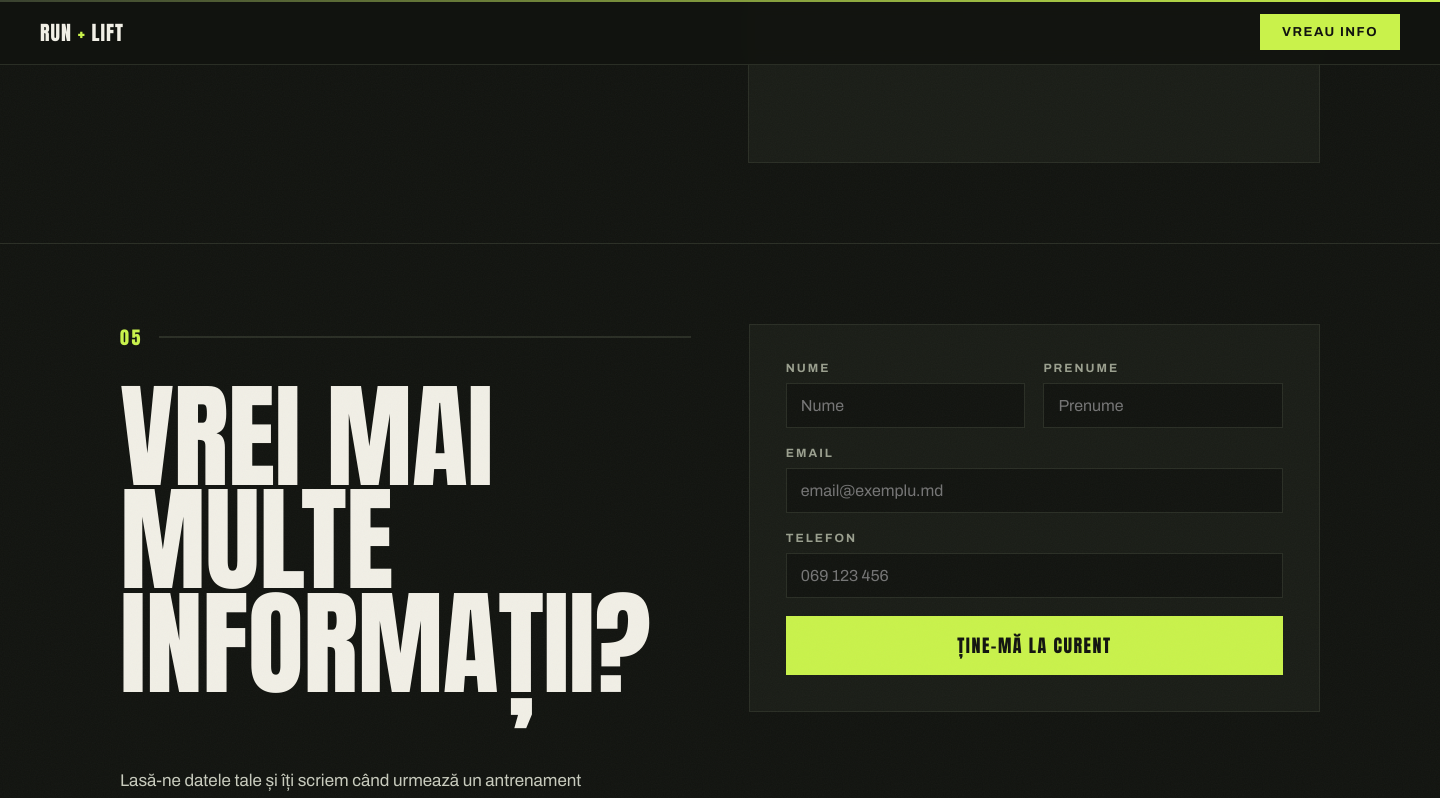
Scenario: pagina Despre noi › emailul invalid afișează eroarea fără comandă
(page scrolled)
Type "Popescu" into the field labelled "Nume".
click(906, 405); type("Popescu")  # box [786,383,1025,428]
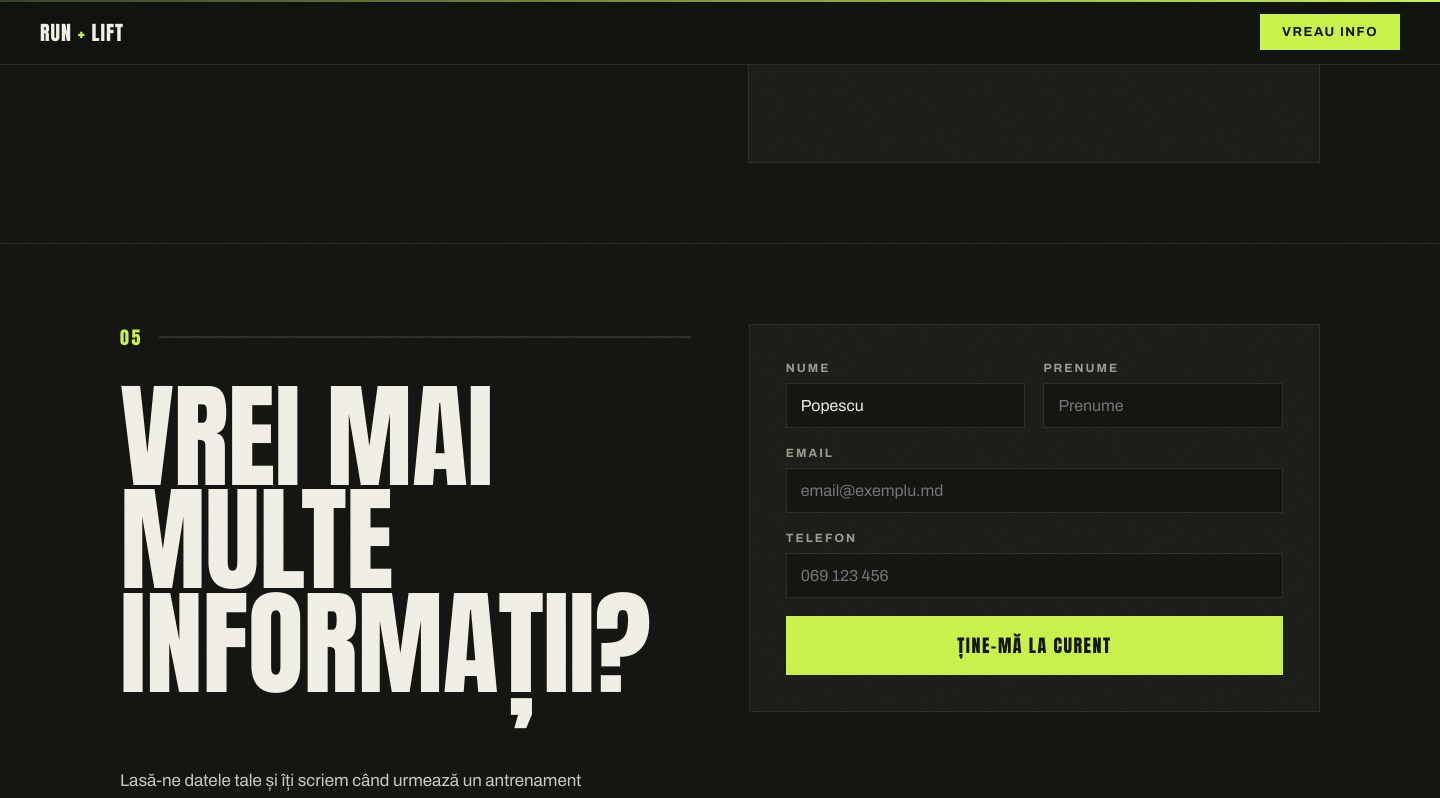
Type "Ana" into the field labelled "Prenume".
click(1163, 405); type("Ana")  # box [1043,383,1283,428]
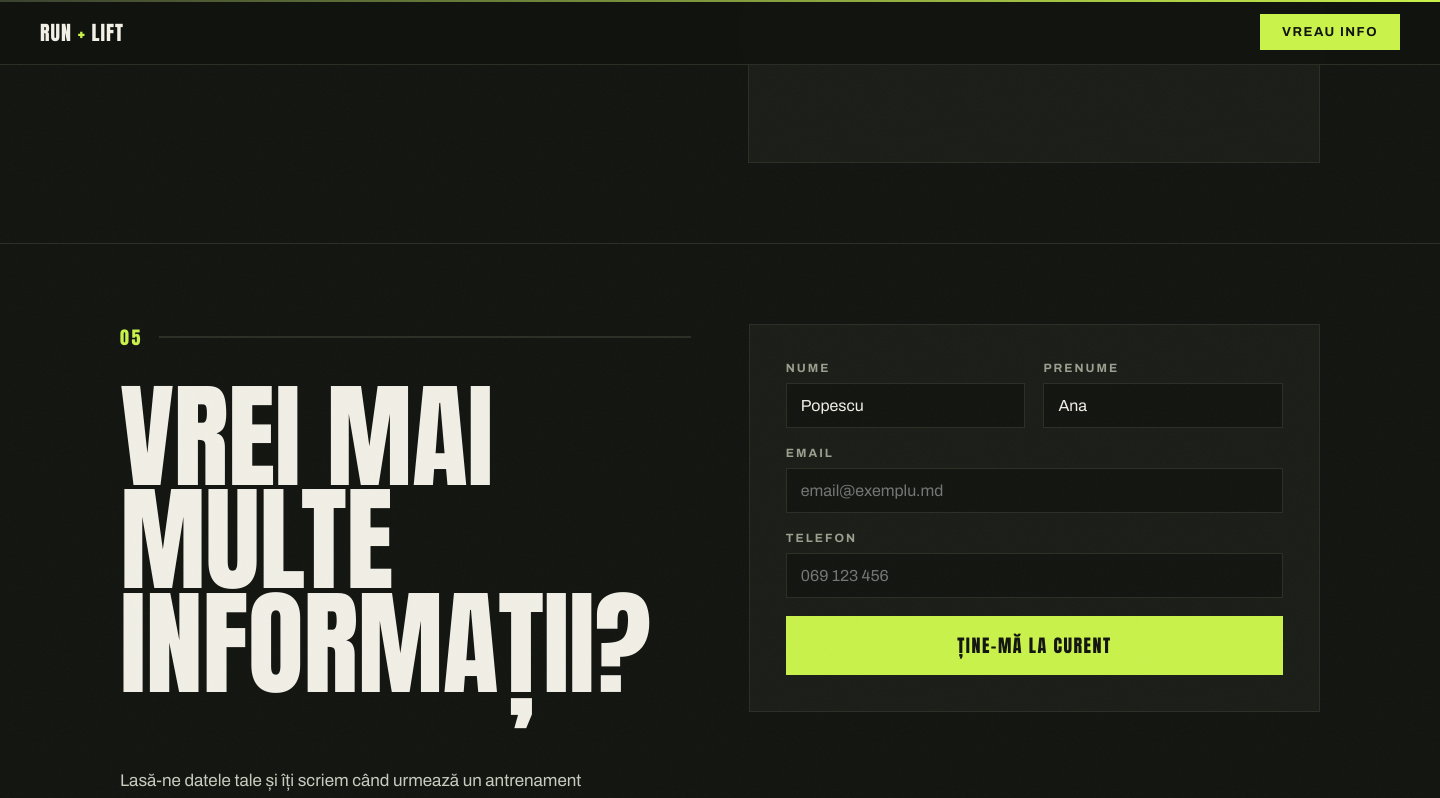
Type "ana@example.com" into the field labelled "Email".
click(1034, 490); type("ana@example.com")  # box [786,468,1283,513]
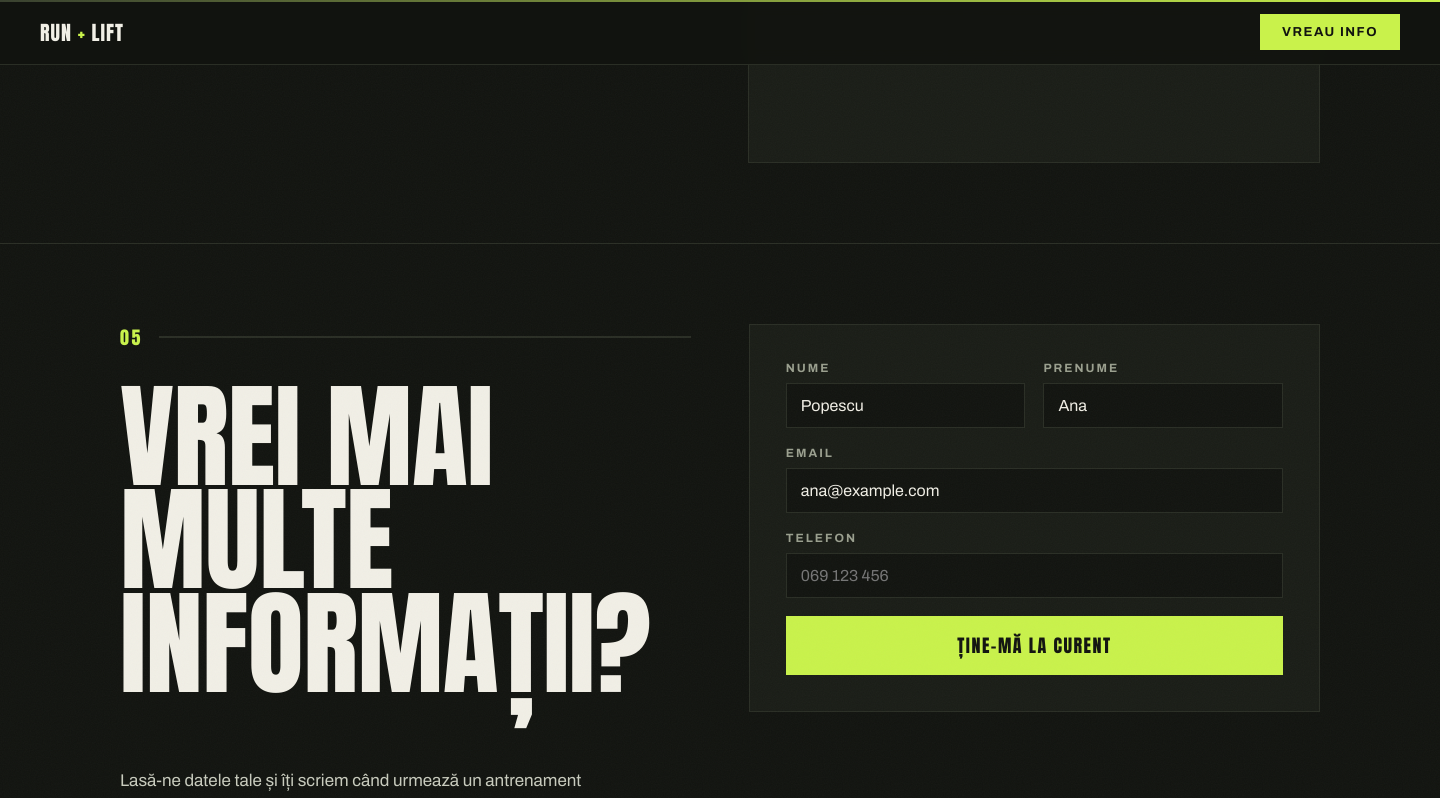
Type "069123456" into the field labelled "Telefon".
click(1034, 575); type("069123456")  # box [786,553,1283,598]
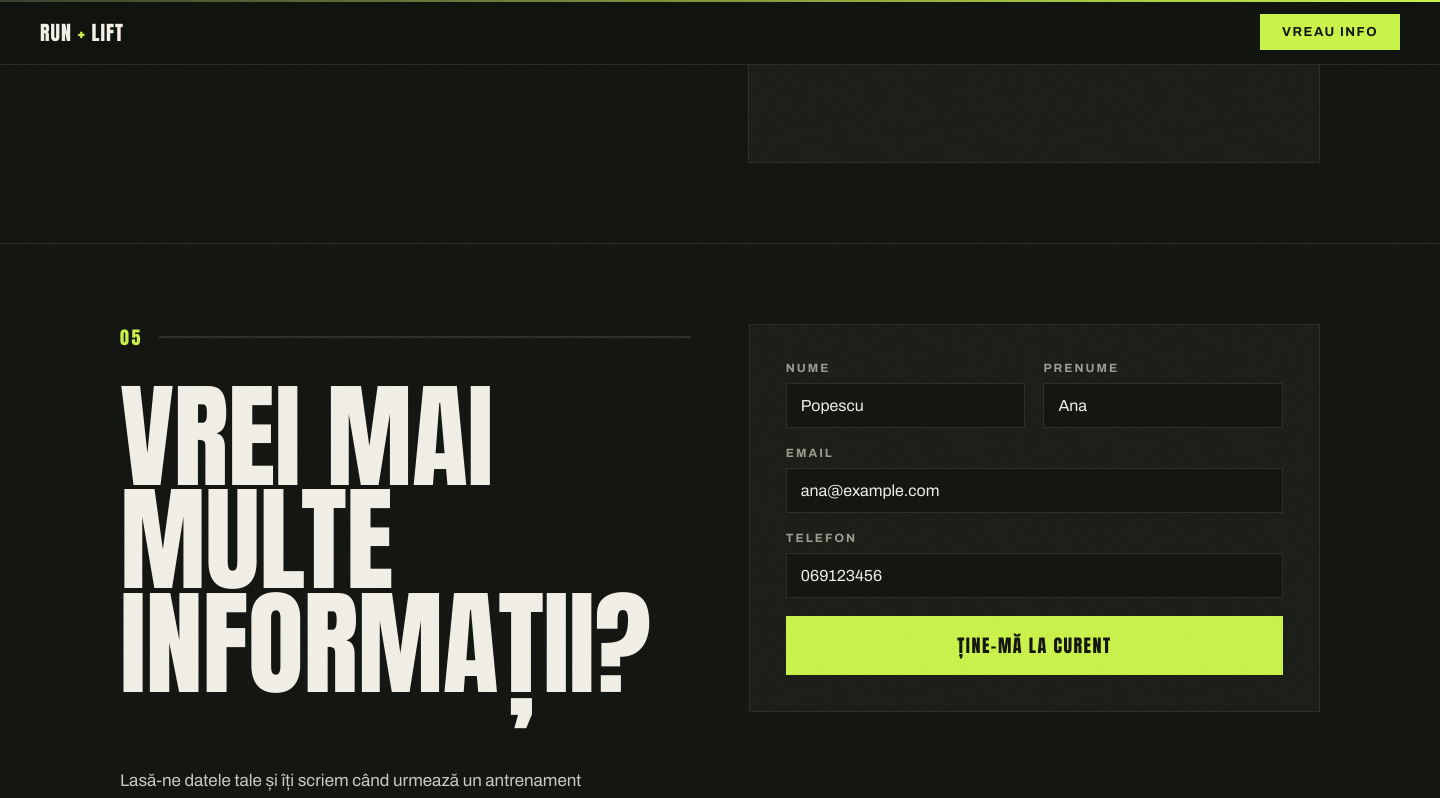
Replace the text in the field labelled "Email" with "invalid" at (1034, 490), box [786,468,1283,513]
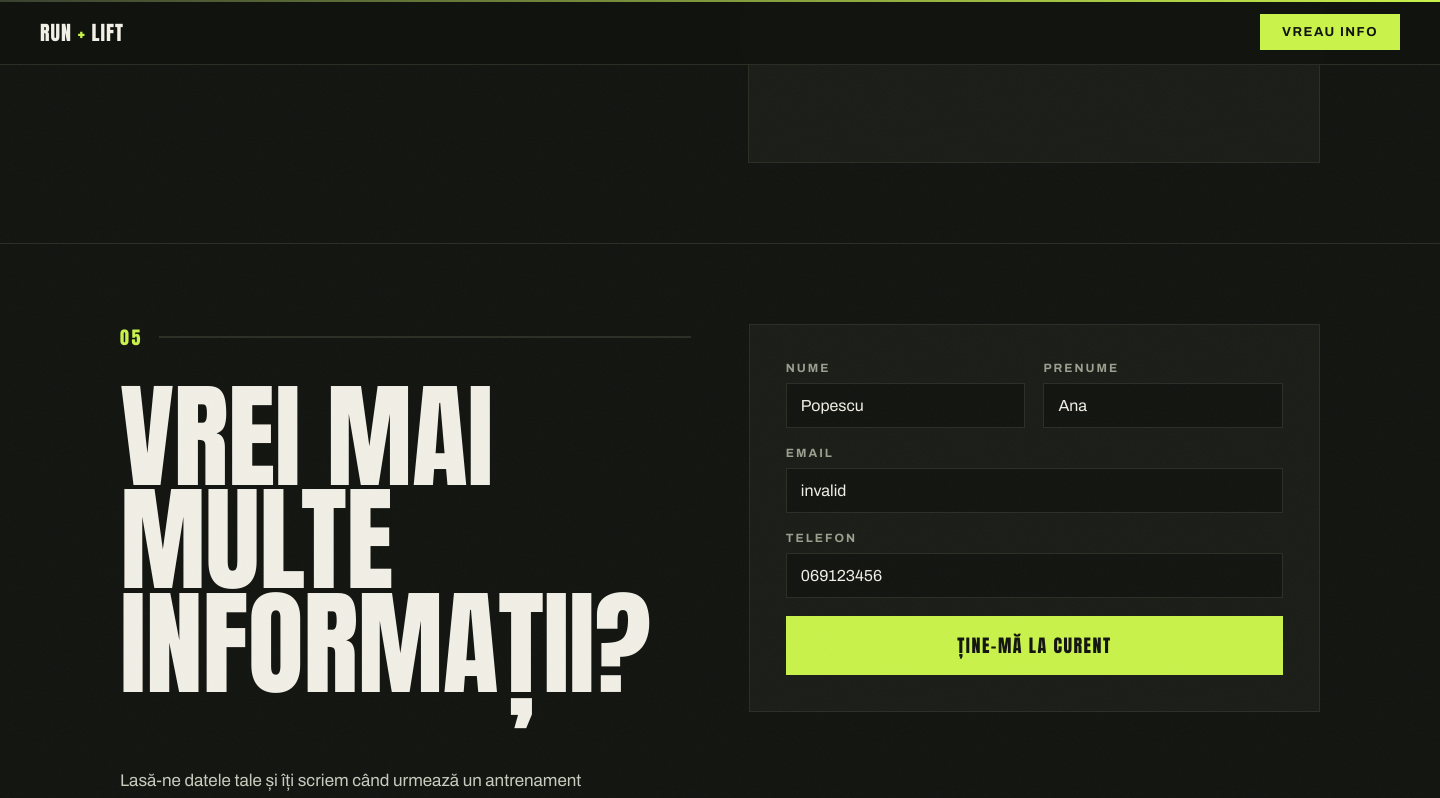
Click the button "Ține-mă la curent".
click(1034, 645)  # box [786,616,1283,675]
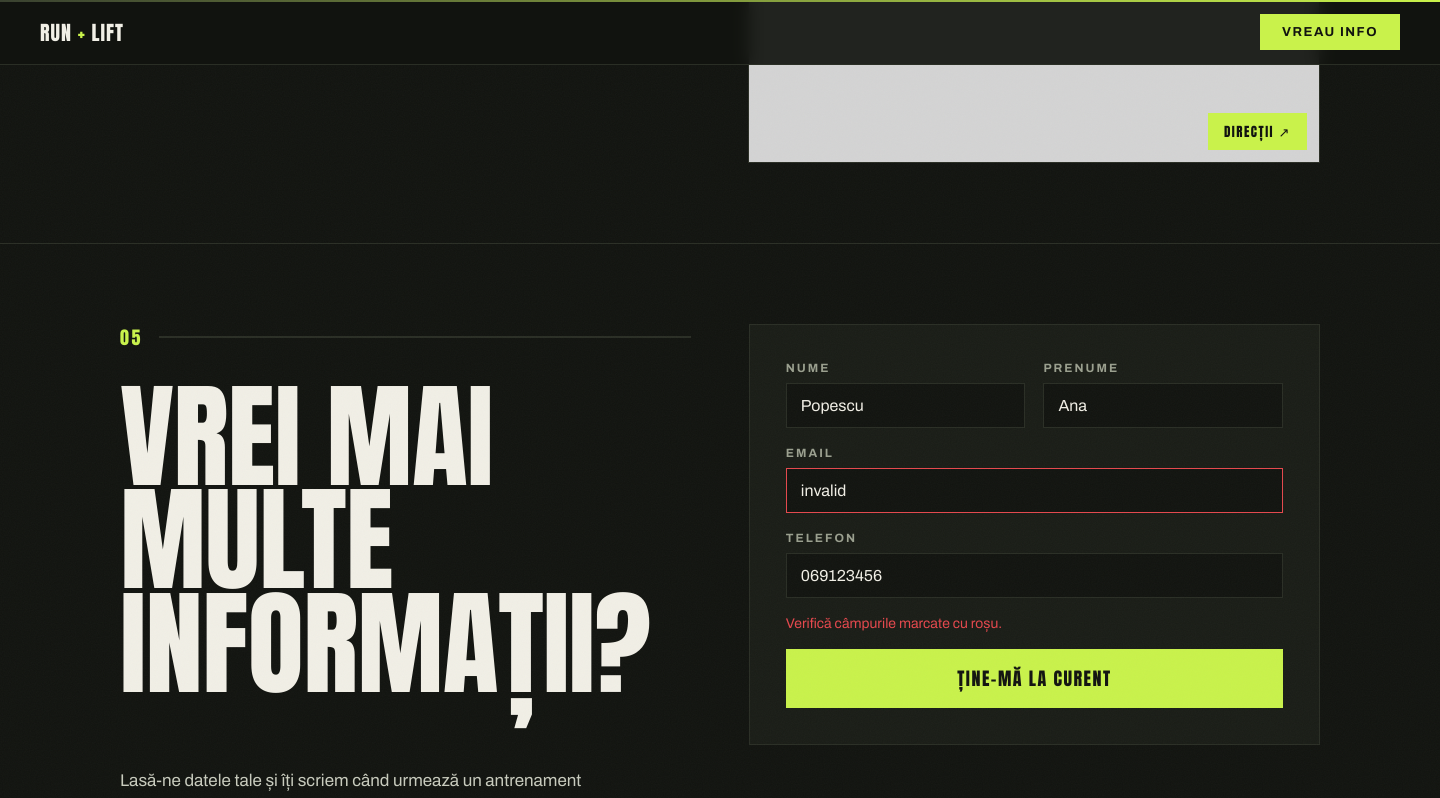
Now the message "Verifică câmpurile marcate cu roșu." is shown, box [786,616,1002,631]
